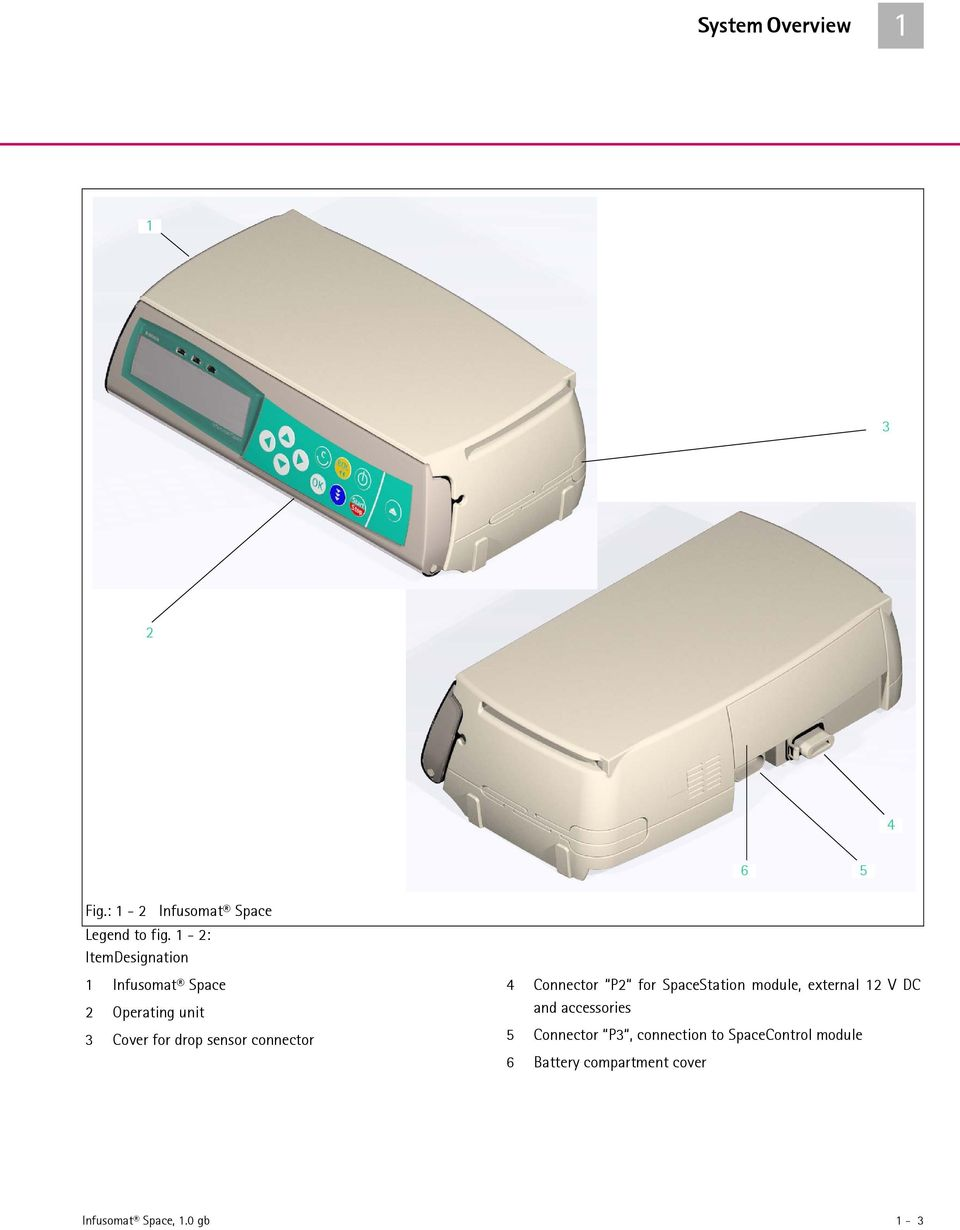BBraun Infusomat Space: (98, 205, 593, 592)
